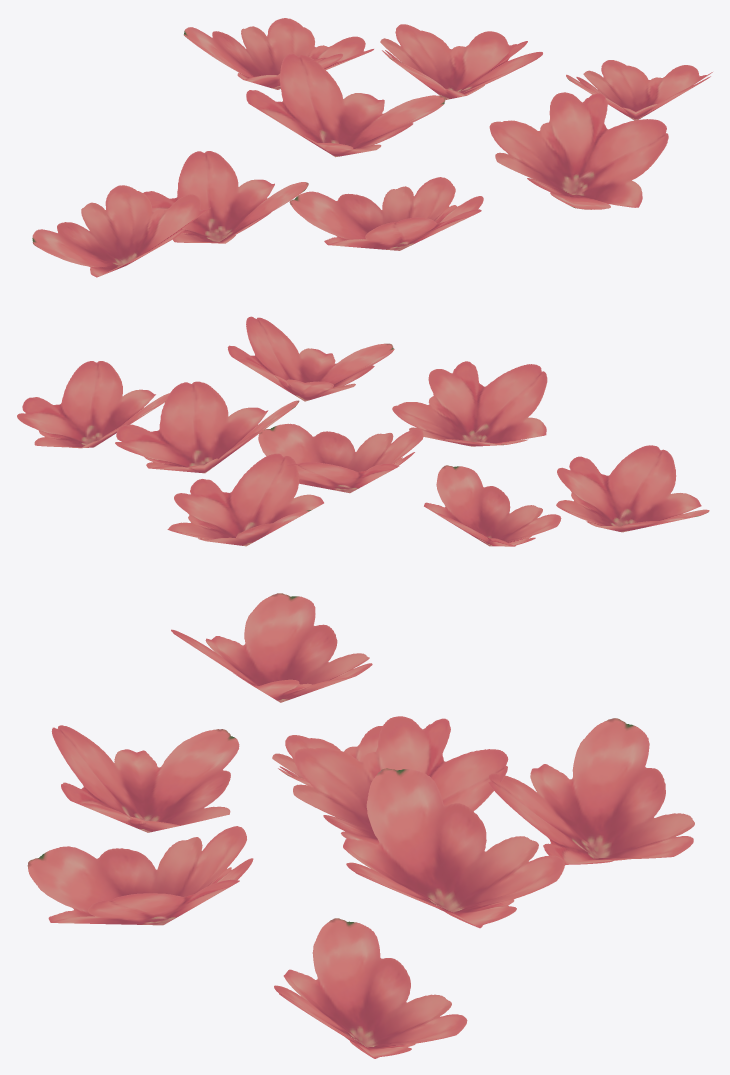
File: SM_EastLands_FlowerGroup_01.fbx
3 views of the same model, one above another, from view 1: azimuth 30°, elevation 25°; view 2: azimuth 150°, elevation 25°; view 3: azimuth 270°, elevation 25° (orthographic). The views are drawn at different scales.
Visible parts, largest first — view 1: SM_EastLands_FlowerGroup_01_LOD0; view 2: SM_EastLands_FlowerGroup_01_LOD0; view 3: SM_EastLands_FlowerGroup_01_LOD0.
Boxes of the visible parts, x1,y1,x2,y2 form: SM_EastLands_FlowerGroup_01_LOD0: (32,18,712,277); SM_EastLands_FlowerGroup_01_LOD0: (17,316,709,546); SM_EastLands_FlowerGroup_01_LOD0: (27,593,694,1058).
Size of the model in its own units: 96.38 by 17.09 by 64.95.
